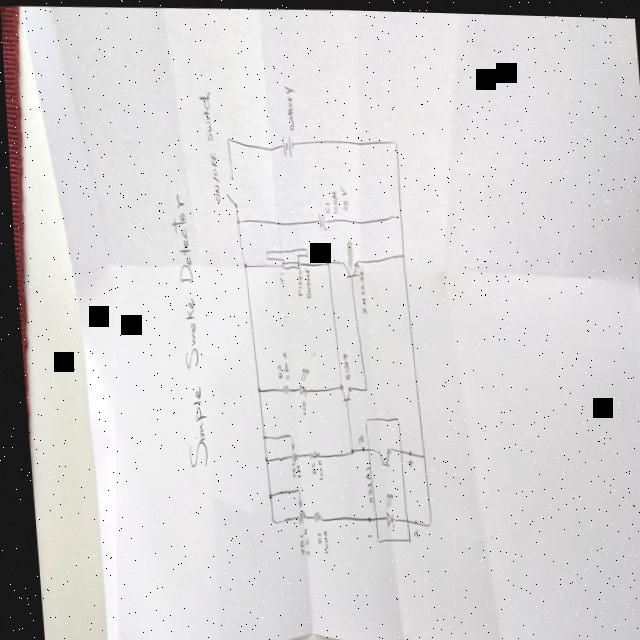capacitor: (313, 208, 323, 230)
diode: (290, 365, 305, 397)
junction: (419, 513, 425, 525), (260, 490, 266, 500), (342, 443, 347, 454), (395, 250, 401, 257), (238, 260, 243, 268), (320, 259, 326, 265), (393, 211, 398, 218), (255, 432, 259, 440), (251, 385, 255, 393), (264, 515, 268, 523), (232, 216, 236, 224), (257, 455, 261, 462), (282, 432, 286, 439), (415, 451, 419, 457), (390, 138, 394, 144), (223, 134, 227, 140), (289, 486, 293, 491), (358, 385, 362, 390)
resistor: (287, 496, 300, 525), (281, 439, 293, 462), (304, 509, 316, 523), (301, 448, 313, 458), (276, 382, 285, 394)
source: (278, 130, 293, 159)
switch: (219, 171, 234, 208)
text: (164, 191, 204, 468), (195, 89, 218, 203), (281, 84, 295, 130), (354, 265, 362, 313), (357, 464, 366, 502), (298, 266, 307, 298), (275, 349, 284, 379), (336, 183, 345, 211), (336, 350, 344, 379), (327, 189, 336, 213), (295, 525, 302, 555), (291, 267, 298, 296), (314, 527, 320, 553), (291, 532, 297, 555), (310, 457, 316, 479), (295, 397, 301, 415), (271, 362, 277, 378), (320, 199, 327, 212), (399, 456, 408, 466), (289, 462, 294, 478), (284, 459, 288, 478), (308, 530, 314, 542), (405, 525, 411, 537), (350, 433, 357, 443), (304, 459, 309, 473), (358, 530, 364, 537)
transistor: (336, 256, 355, 279), (333, 377, 346, 401)
